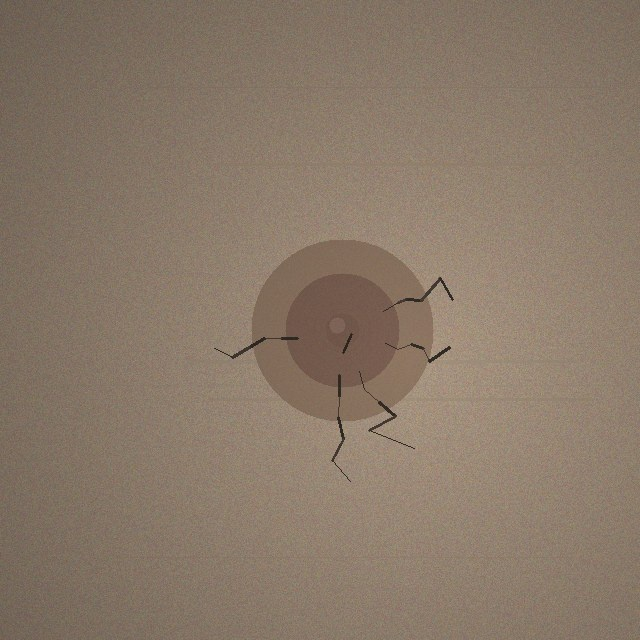crack: (251, 239, 433, 421)
